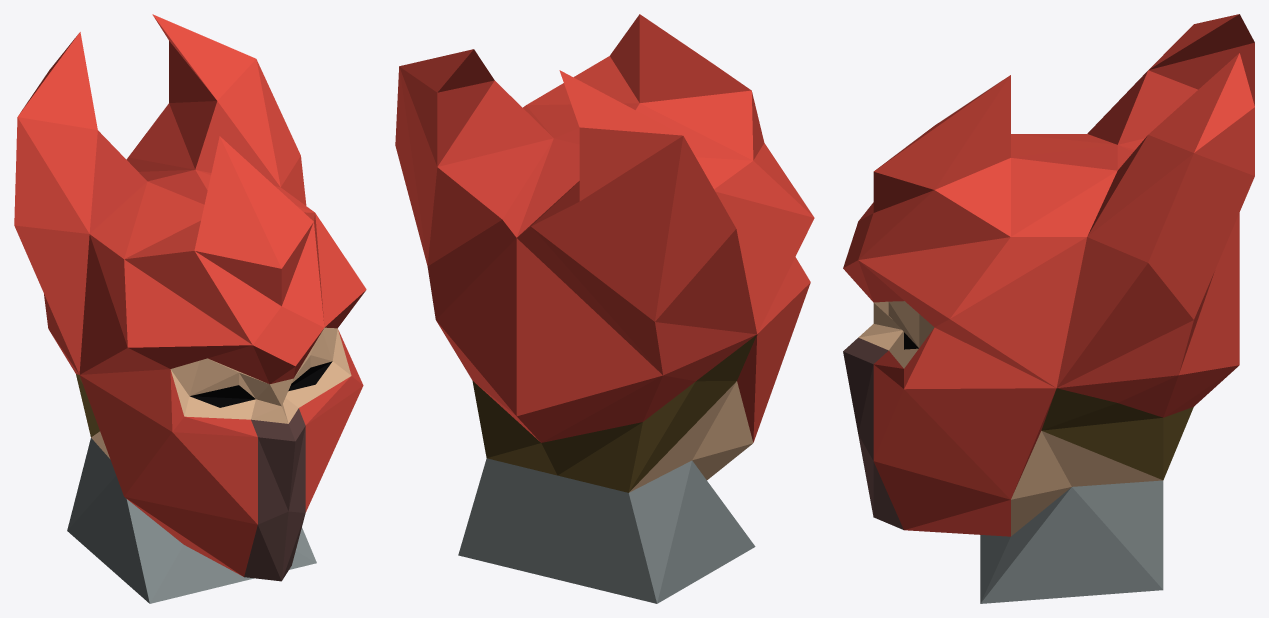
The model's file is player_helm.gltf.
3 renders of one model, left to right at view 1: azimuth 30°, elevation 25°; view 2: azimuth 150°, elevation 25°; view 3: azimuth 270°, elevation 25°, orthographic. The views are drawn at different scales.
Bounding box in the file's own units: 24 × 38 × 27.
1 material, 1 textured.
